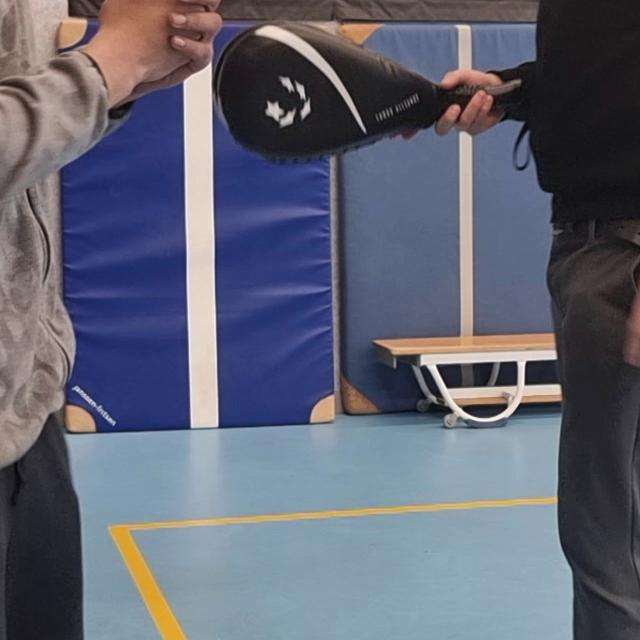paddle: (213, 24, 520, 162)
